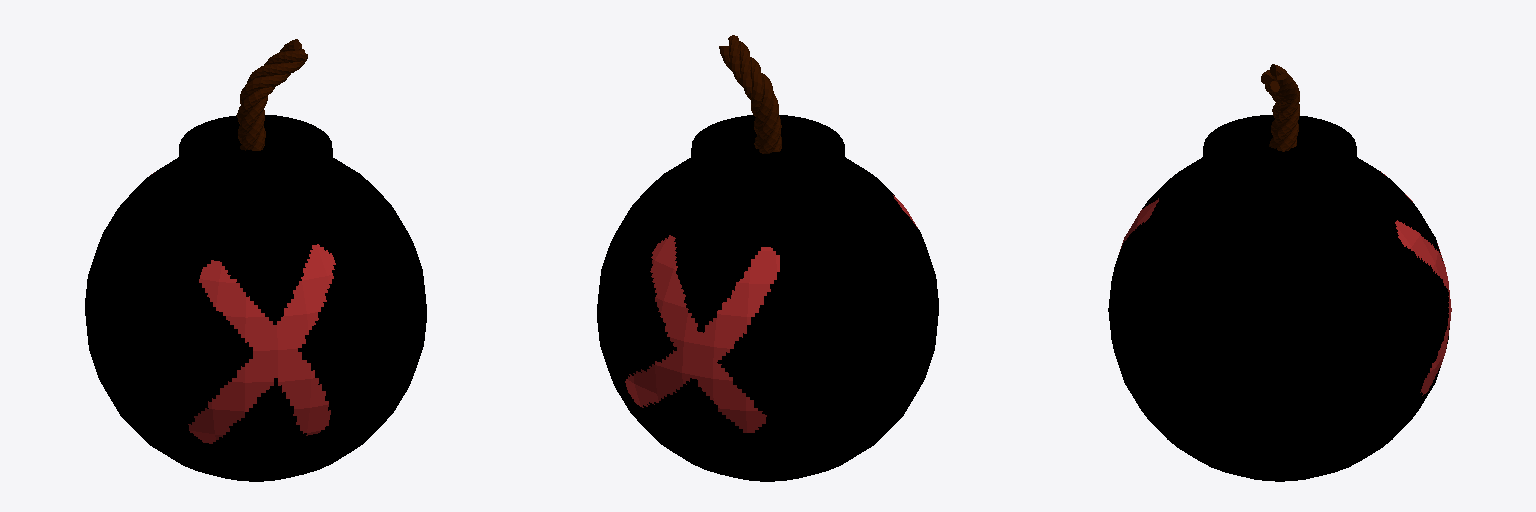
The picture shows the model from 3 angles: view 1: azimuth 30°, elevation 25°; view 2: azimuth 150°, elevation 25°; view 3: azimuth 270°, elevation 25°; orthographic projection.
Parts seen in each view (by area): view 1: Sphere, Cylinder, Circle_Circle.004; view 2: Sphere, Cylinder, Circle_Circle.004; view 3: Sphere, Cylinder, Circle_Circle.004.
Part boxes in pixels (x1,y1,x2,y2): Sphere: (85, 157, 426, 481); Cylinder: (179, 115, 332, 203); Circle_Circle.004: (237, 39, 307, 150); Sphere: (597, 157, 938, 481); Cylinder: (691, 115, 844, 203); Circle_Circle.004: (719, 35, 781, 153); Sphere: (1108, 157, 1451, 481); Cylinder: (1203, 115, 1356, 203); Circle_Circle.004: (1261, 64, 1299, 151).
Bounding box in the file's own units: 2 × 2.7 × 2.
3 materials, 1 textured.